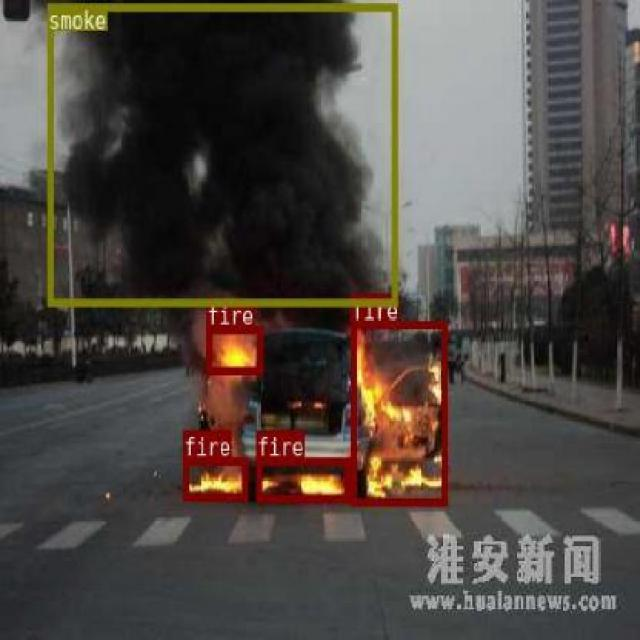Fire: (350, 319, 446, 504), (256, 456, 350, 501), (182, 456, 247, 498), (206, 325, 262, 373)
Smoke: (46, 2, 397, 304)
